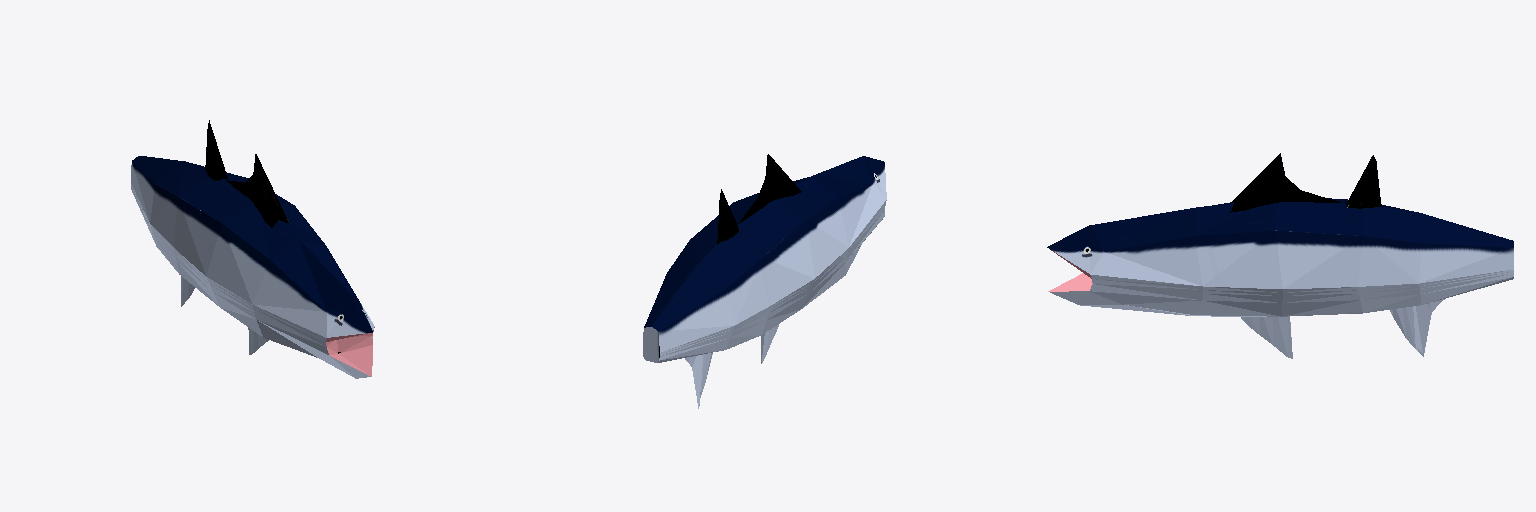
3 renders of one model, left to right at view 1: azimuth 30°, elevation 25°; view 2: azimuth 150°, elevation 25°; view 3: azimuth 270°, elevation 25°, orthographic.
Parts seen in each view (by area): view 1: 立方体.005_立方体.006; view 2: 立方体.005_立方体.006; view 3: 立方体.005_立方体.006.
Boxes of the visible parts, x1=… form: 立方体.005_立方体.006: x1=131, y1=120, x2=374, y2=378; 立方体.005_立方体.006: x1=643, y1=154, x2=886, y2=408; 立方体.005_立方体.006: x1=1047, y1=153, x2=1513, y2=358.
Bounding box in the file's own units: 4.96 × 10.14 × 20.74.
1 materials, 1 textured.